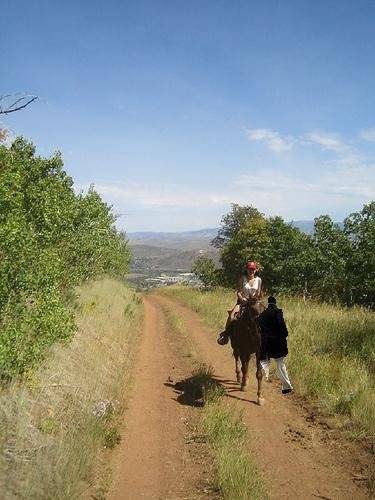tampered: (259, 297, 293, 394)
